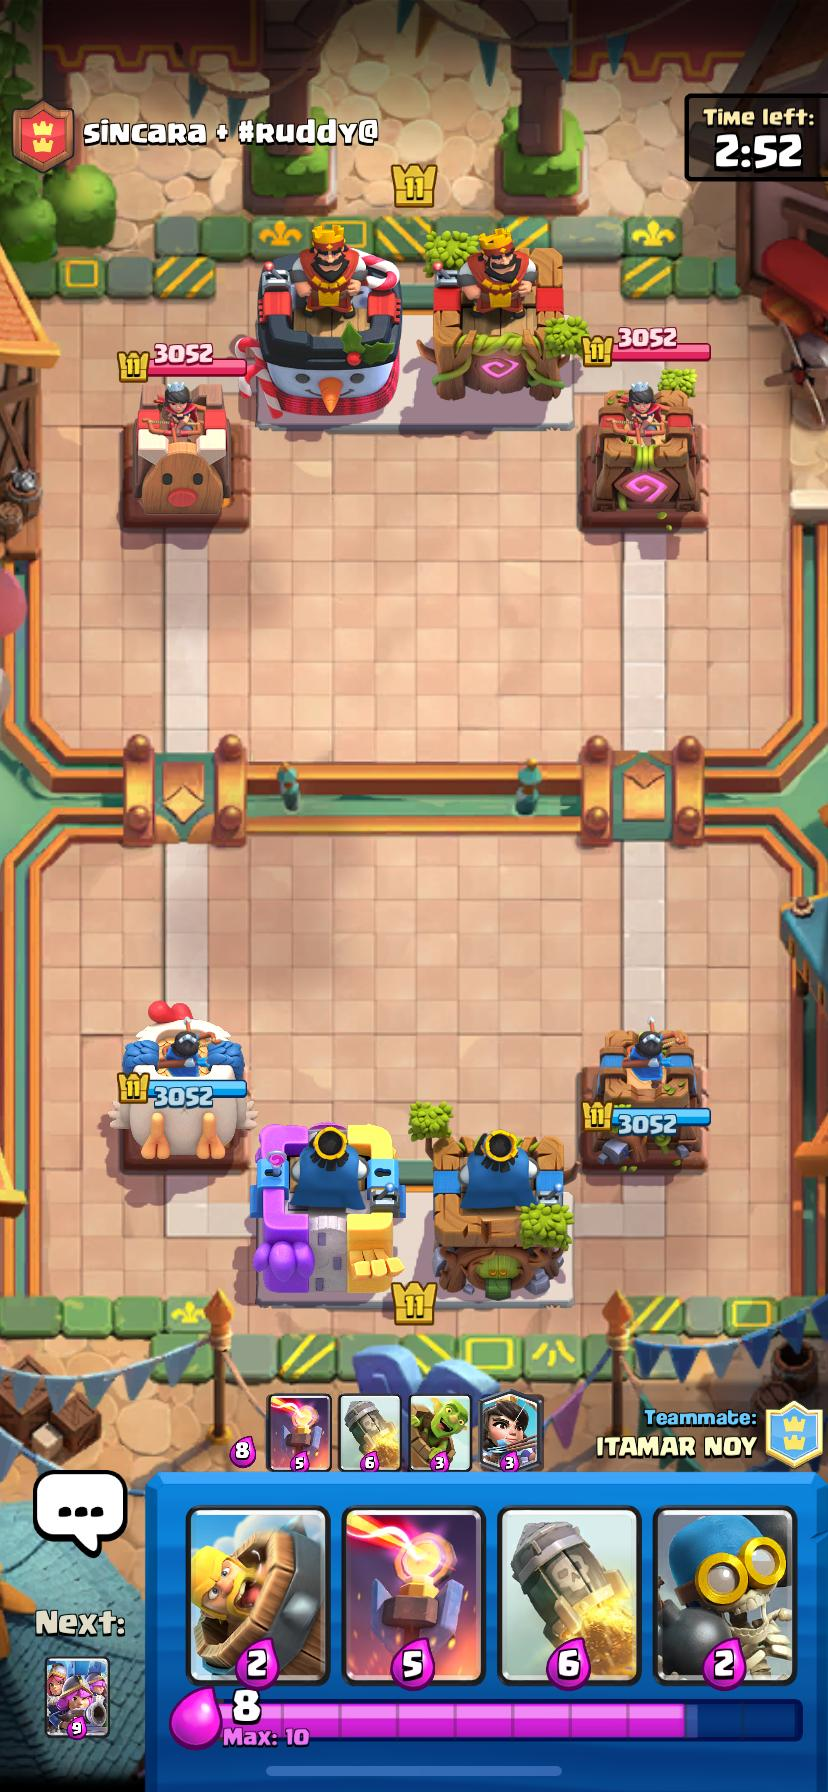EKingTower: (256, 223, 401, 423), (417, 227, 578, 401)
EnemyPrincessTower: (580, 381, 706, 529), (122, 382, 250, 527)
OwnKingTower: (253, 1123, 405, 1302), (433, 1129, 572, 1299)
OwnPrincessTower: (110, 1002, 255, 1161), (580, 1022, 710, 1171)
